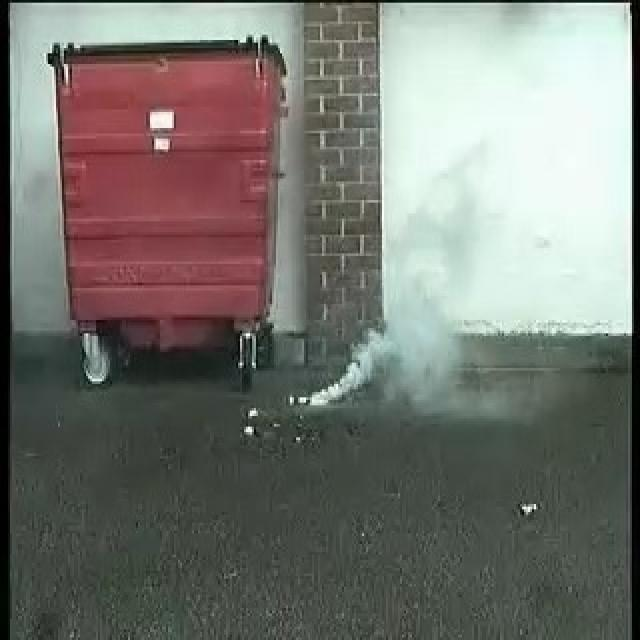smoke: (308, 238, 451, 408)
